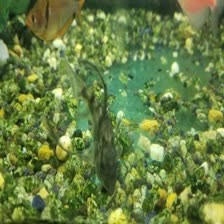Kiros: (45, 56, 142, 202)
